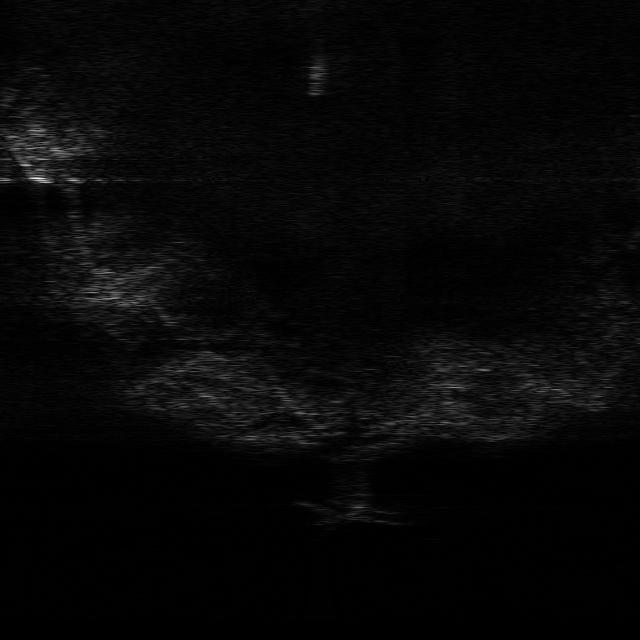plane: (291, 496, 405, 527)
